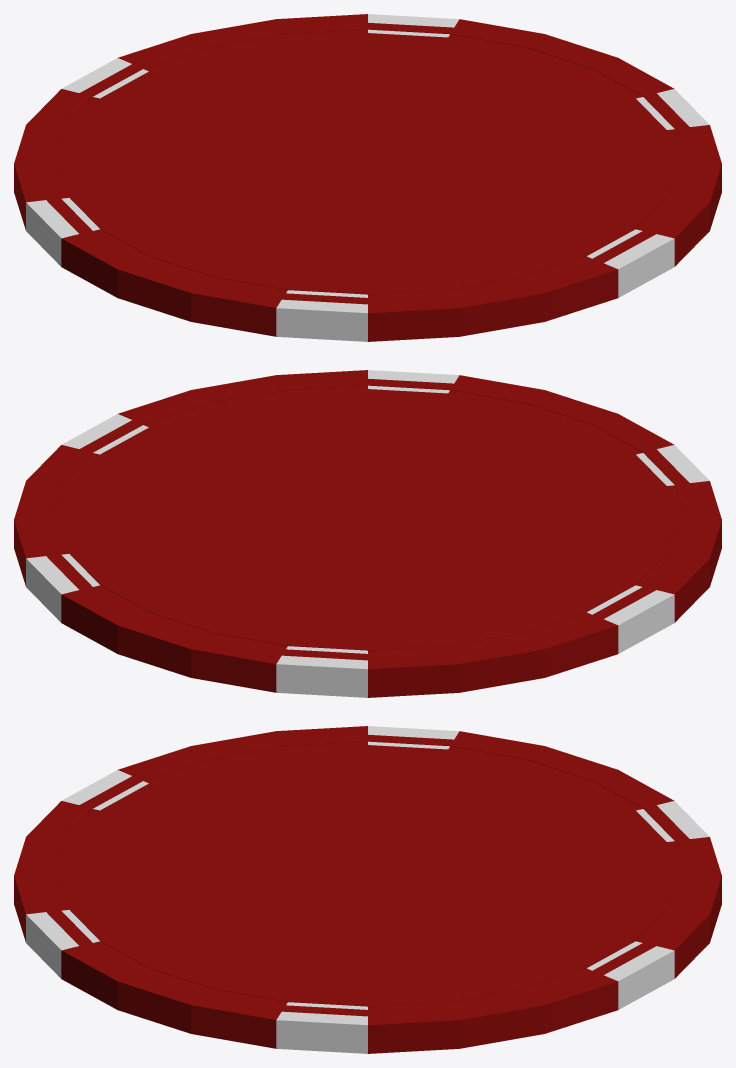
File: PokerChips.glb
The picture shows the model from 3 angles, top to bottom: view 1: azimuth 30°, elevation 25°; view 2: azimuth 150°, elevation 25°; view 3: azimuth 270°, elevation 25°; orthographic projection.
Parts seen in each view (by area): view 1: Cylinder; view 2: Cylinder; view 3: Cylinder.
Boxes of the visible parts, x1,y1,x2,y2 form: Cylinder: [14, 14, 721, 341]; Cylinder: [14, 370, 721, 697]; Cylinder: [14, 726, 721, 1053].
Bounding box in the file's own units: 1.08 × 0.0483 × 1.08.
